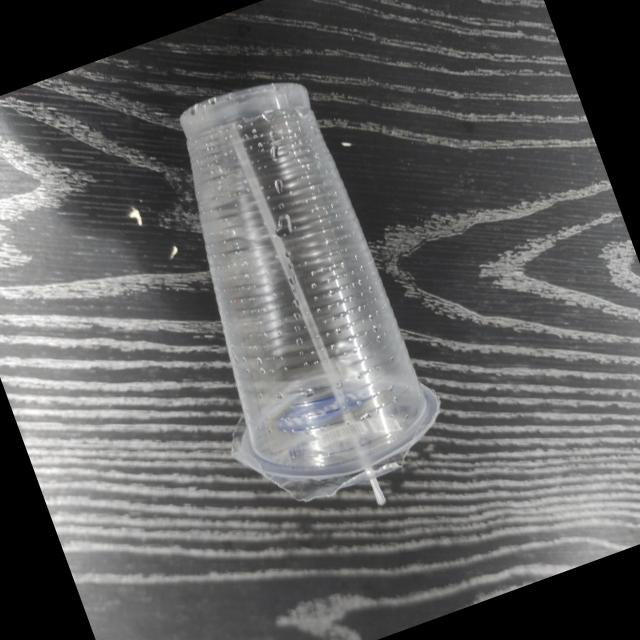GelasPlastik: (115, 58, 468, 546)
